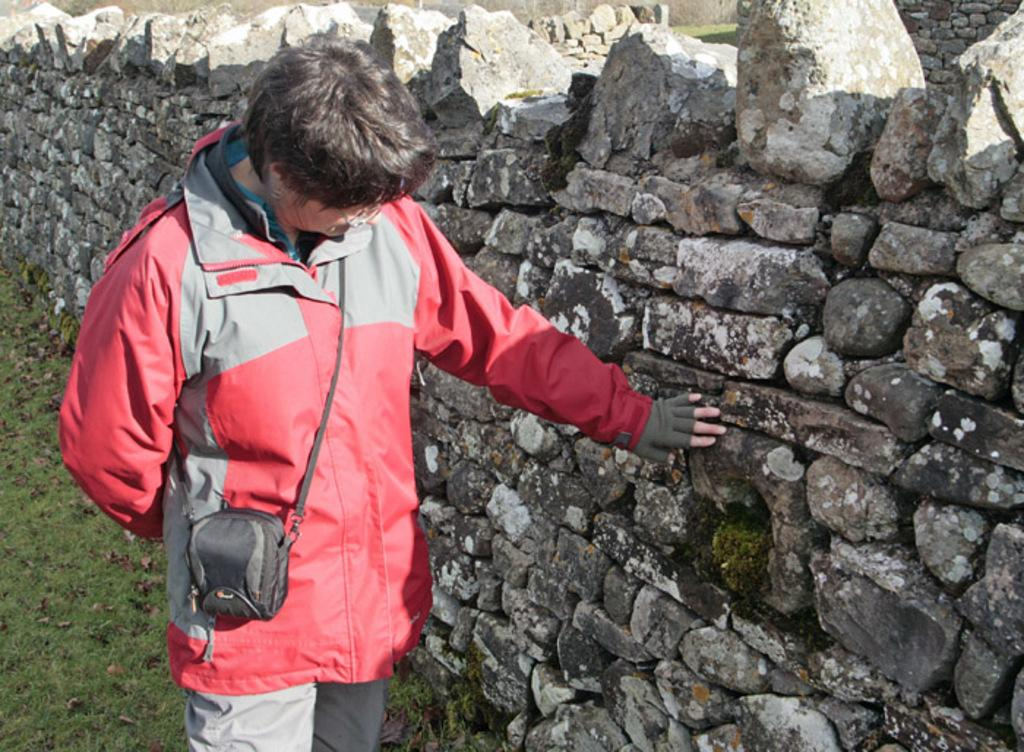Luggage-and-bags: (162, 262, 347, 614)
